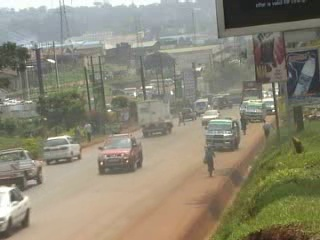Car: (0, 181, 35, 237), (42, 132, 85, 165), (200, 109, 223, 126), (180, 104, 198, 121)
